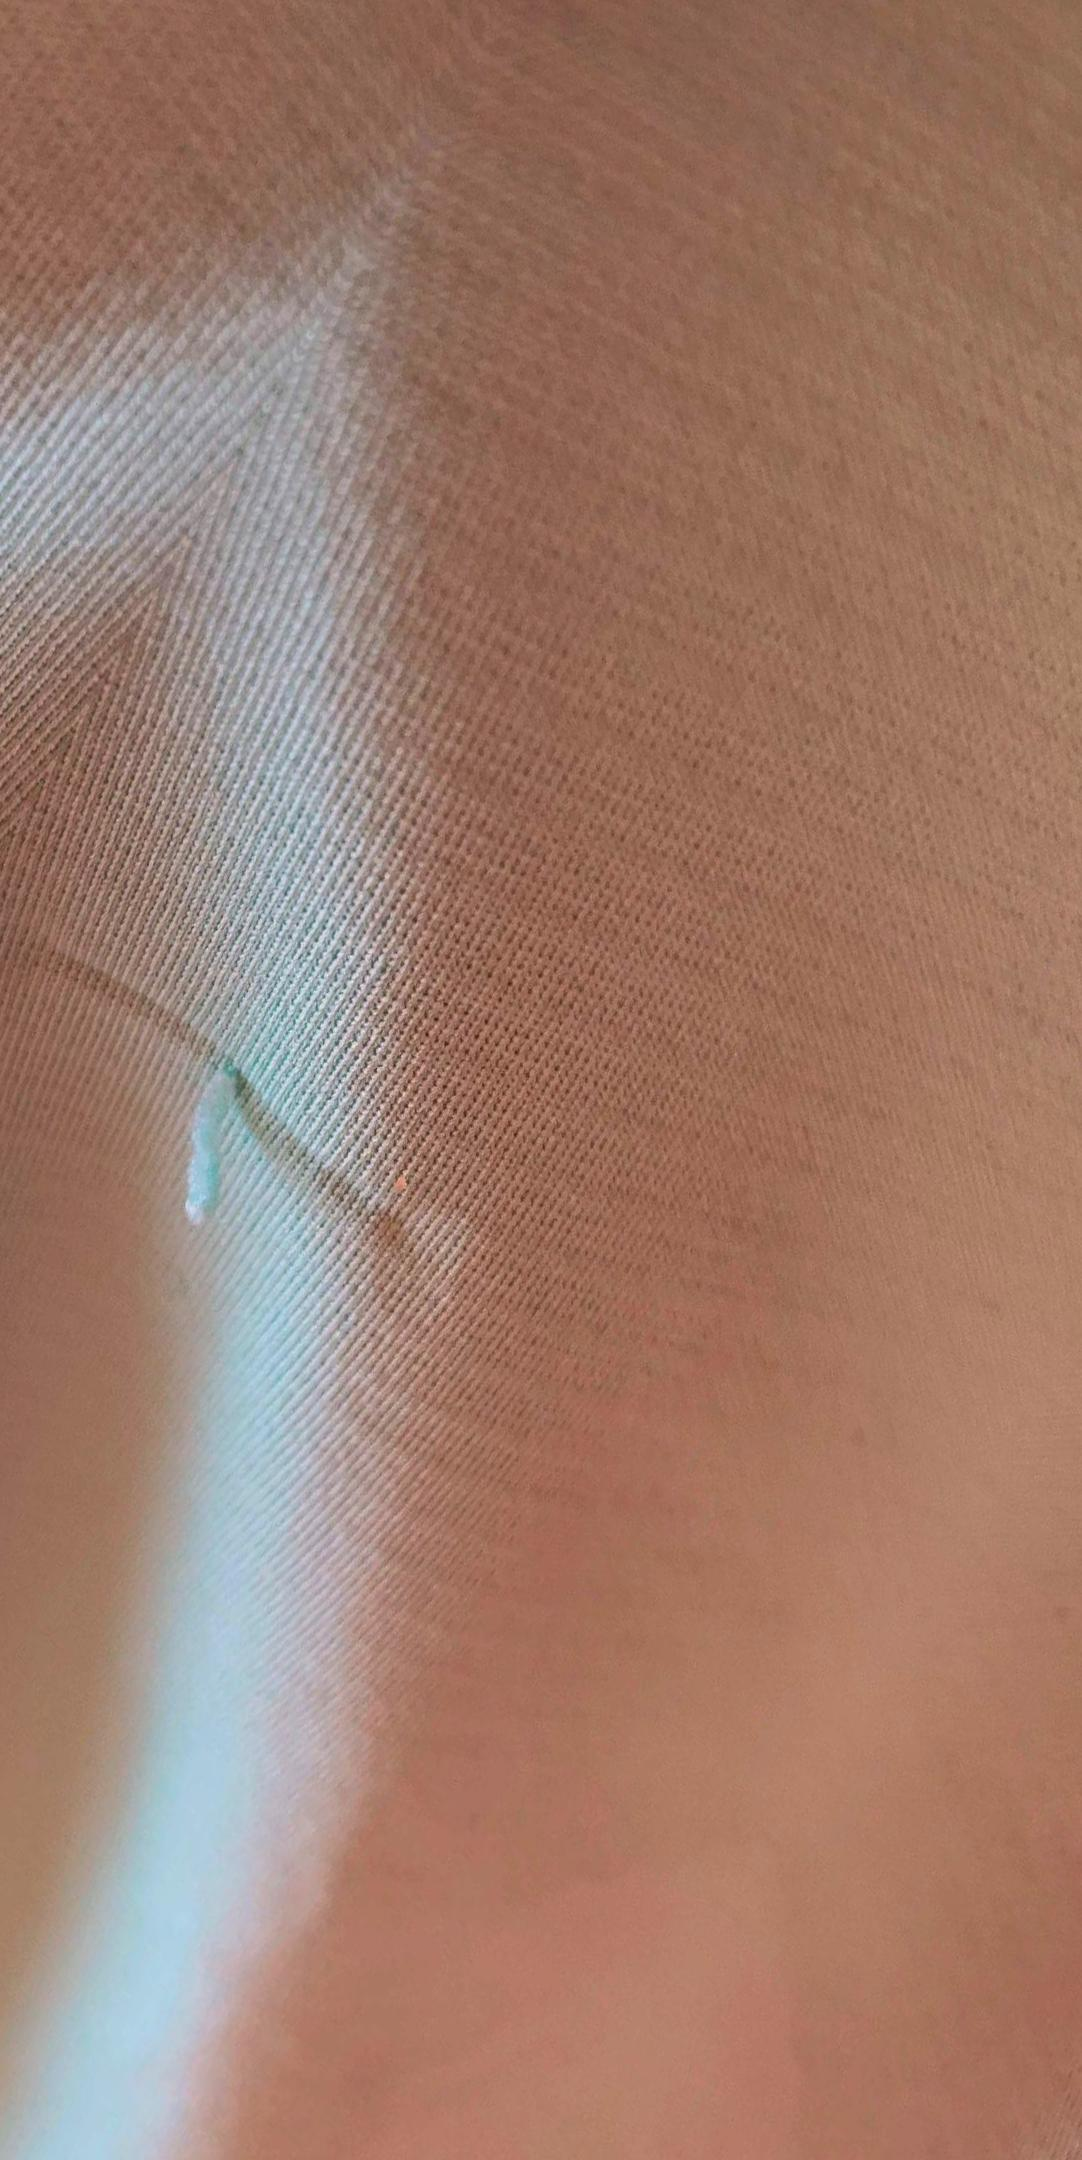snag: (119, 1010, 299, 1261)
